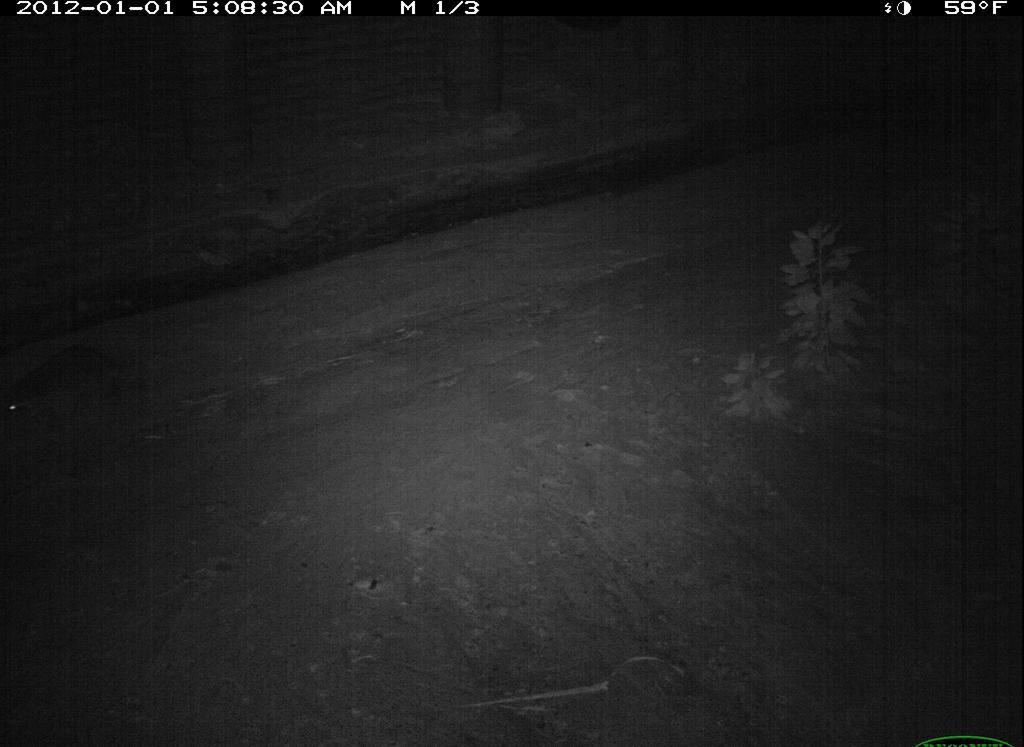raccoon: (9, 361, 49, 432)
